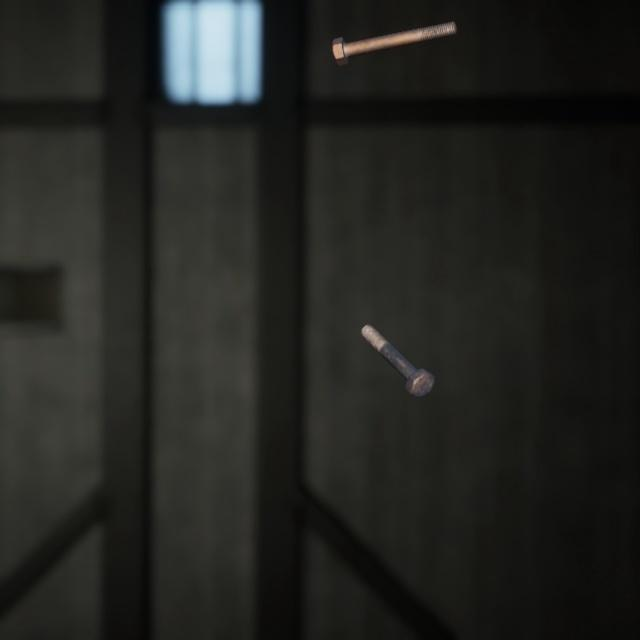bolt: (327, 9, 461, 62), (356, 302, 439, 384)
